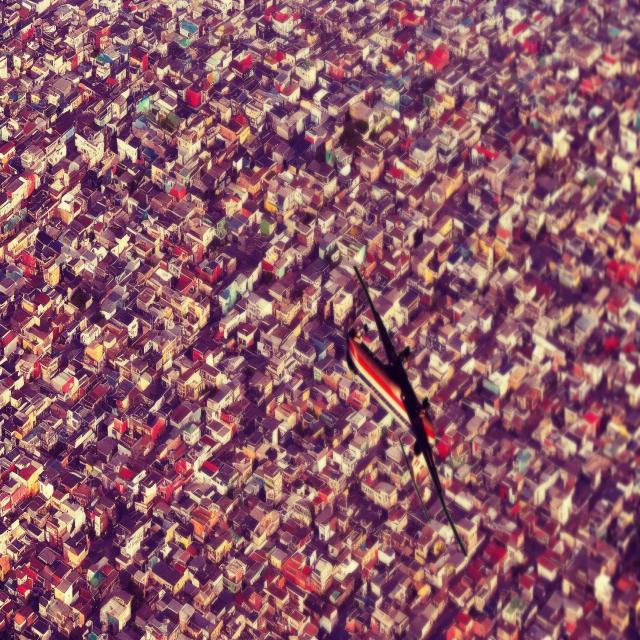airplane: (346, 263, 468, 557)
